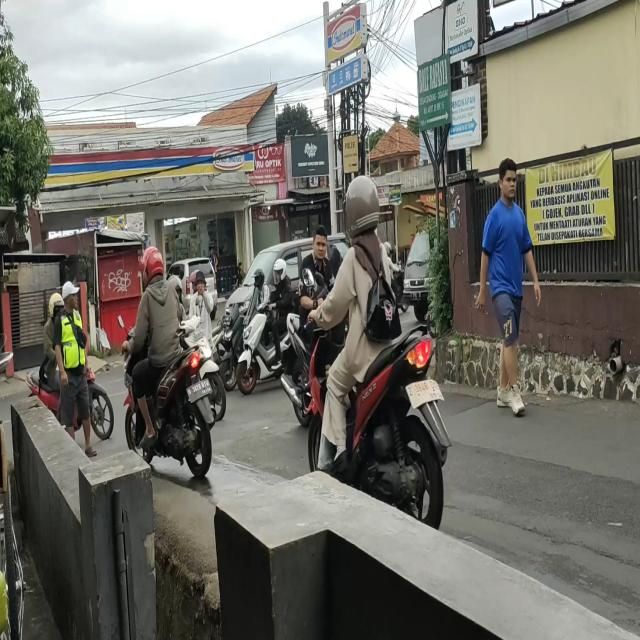helmet: (347, 177, 381, 229), (138, 244, 165, 284), (48, 290, 64, 318), (252, 267, 265, 293), (274, 259, 286, 282)
no-helmet: (313, 225, 330, 262)
